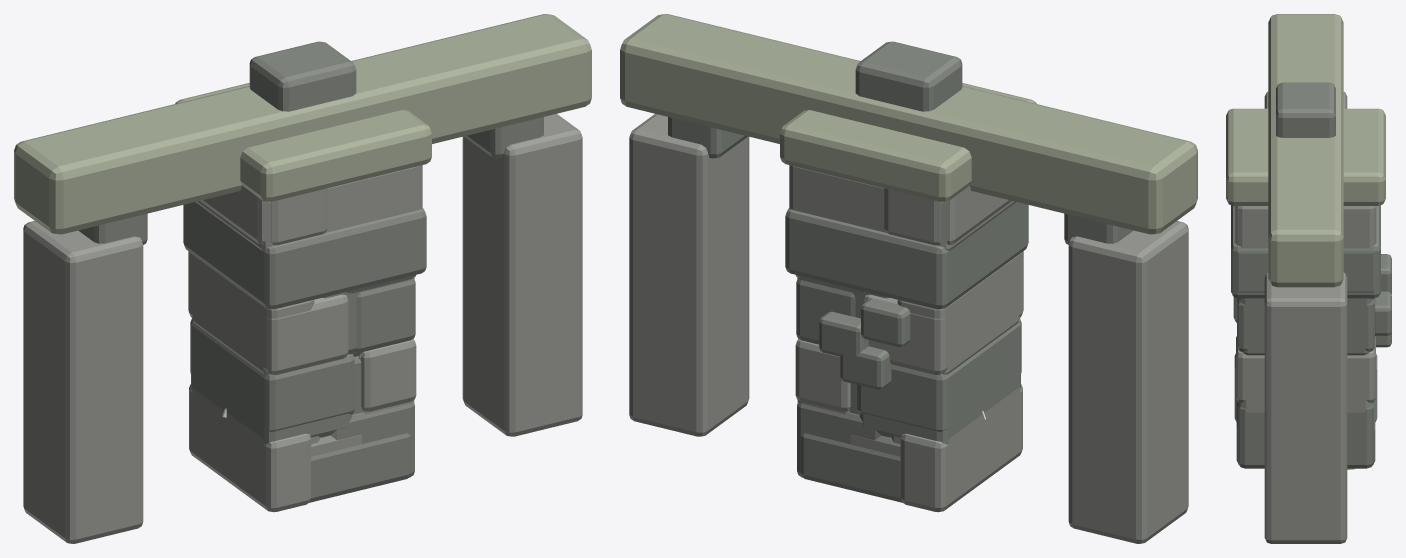
Rendered from arch_kit.glb.
The picture shows the model from 3 angles, left to right: view 1: azimuth 30°, elevation 25°; view 2: azimuth 150°, elevation 25°; view 3: azimuth 270°, elevation 25°; orthographic projection. The views are drawn at different scales.
Parts seen in each view (by area): view 1: Arch, Wall2, Wall1, Wall0, Pillar; view 2: Arch, Wall2, Wall0, Wall1, Pillar; view 3: Arch, Wall2, Wall0, Wall1, Pillar.
Part boxes in pixels (bbox=[...]): Arch: bbox=[14, 14, 591, 543]; Wall2: bbox=[175, 83, 431, 512]; Wall1: bbox=[188, 142, 431, 509]; Wall0: bbox=[188, 135, 431, 477]; Pillar: bbox=[309, 433, 411, 502]; Arch: bbox=[620, 14, 1197, 543]; Wall2: bbox=[780, 83, 1036, 512]; Wall0: bbox=[780, 136, 1023, 508]; Wall1: bbox=[780, 142, 1023, 507]; Pillar: bbox=[800, 433, 902, 502]; Arch: bbox=[1264, 14, 1347, 543]; Wall2: bbox=[1226, 108, 1391, 468]; Wall0: bbox=[1226, 181, 1391, 468]; Wall1: bbox=[1226, 186, 1391, 465]; Pillar: bbox=[1236, 399, 1375, 465].
Size of the model in its own units: 3.5 by 2.59 by 1.1.
